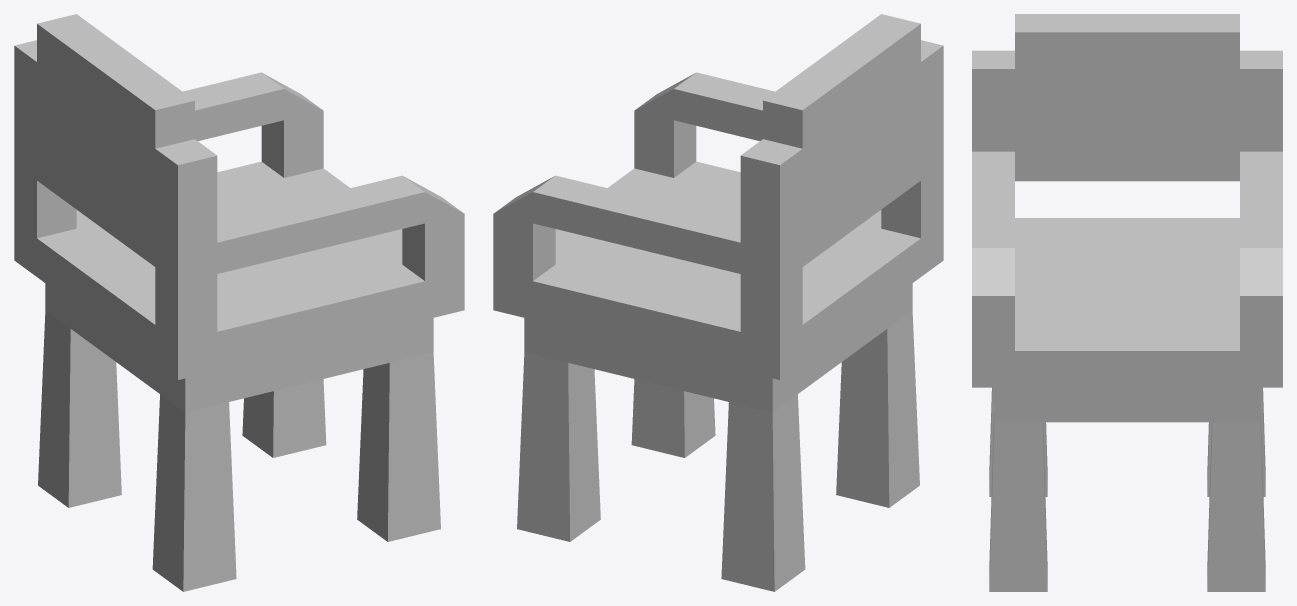
Rendered from ChairHandle.glb.
The picture shows the model from 3 angles, left to right: view 1: azimuth 30°, elevation 25°; view 2: azimuth 150°, elevation 25°; view 3: azimuth 270°, elevation 25°; orthographic projection. The views are drawn at different scales.
Visible parts, largest first — view 1: ChairHandle; view 2: ChairHandle; view 3: ChairHandle.
Part boxes in pixels (box(x1,y1,x2,y2)): ChairHandle: box(14, 14, 464, 591); ChairHandle: box(493, 14, 943, 591); ChairHandle: box(972, 14, 1282, 591).
Size of the model in its own units: 0.4379 by 0.6939 by 0.4326.
2 materials, 2 textured.
